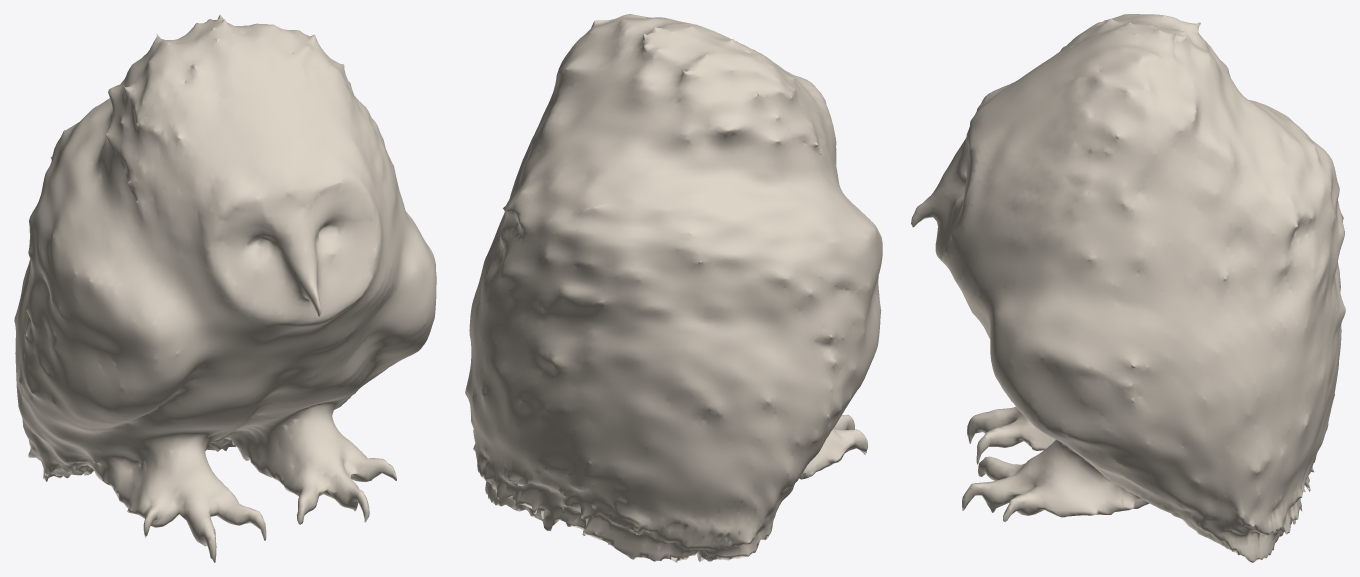
Rendered from filtered-diagnostic.glb.
The picture shows the model from 3 angles, left to right: view 1: azimuth 30°, elevation 25°; view 2: azimuth 150°, elevation 25°; view 3: azimuth 270°, elevation 25°; orthographic projection. The views are drawn at different scales.
Parts seen in each view (by area): view 1: run415_filtered_diagnostic_NO_RELEASE; view 2: run415_filtered_diagnostic_NO_RELEASE; view 3: run415_filtered_diagnostic_NO_RELEASE.
Part boxes in pixels (x1,y1,x2,y2): run415_filtered_diagnostic_NO_RELEASE: (14, 14, 436, 562); run415_filtered_diagnostic_NO_RELEASE: (465, 14, 882, 562); run415_filtered_diagnostic_NO_RELEASE: (911, 14, 1345, 562).
Size of the model in its own units: 1.48 by 1.86 by 1.52.
